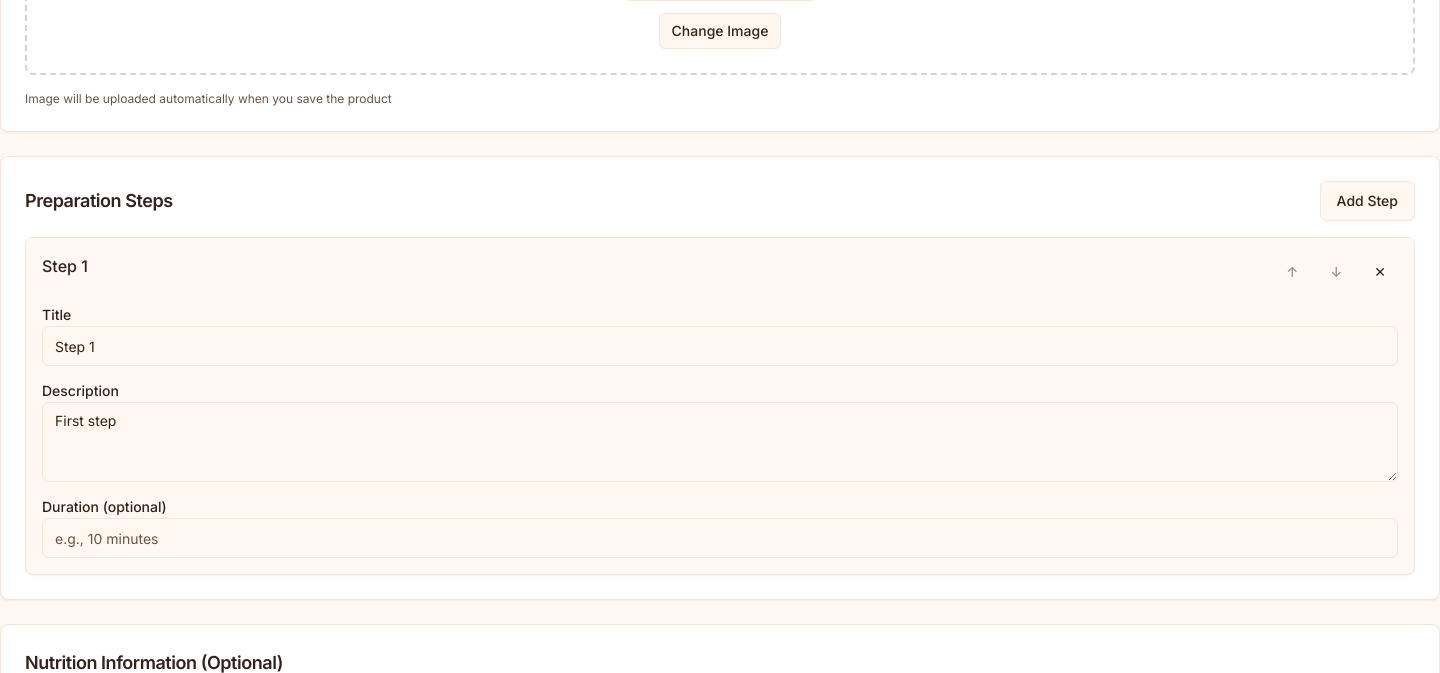
ProductForm › removes a preparation step when remove button is clicked
(page scrolled)
Click the button "✕" at (1380, 272), box x1=1362 y1=254 x2=1398 y2=290
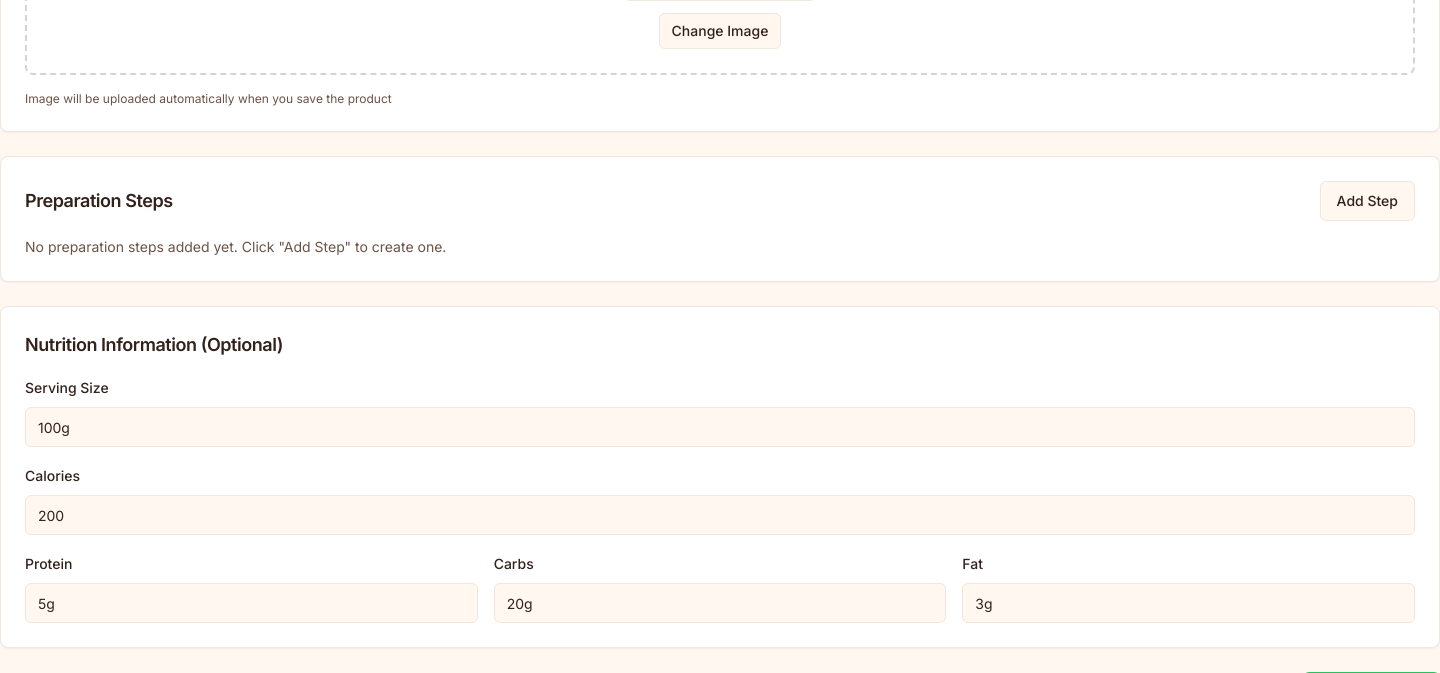
Expected: the text "Step 1" is gone
